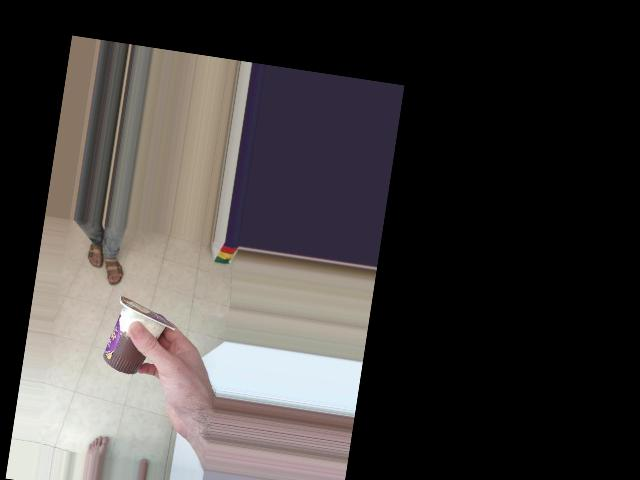milky: (100, 290, 162, 376)
